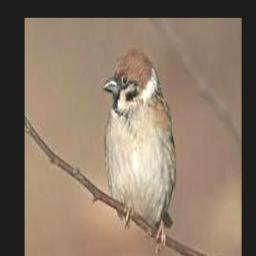Sparrow: (102, 48, 175, 252)
